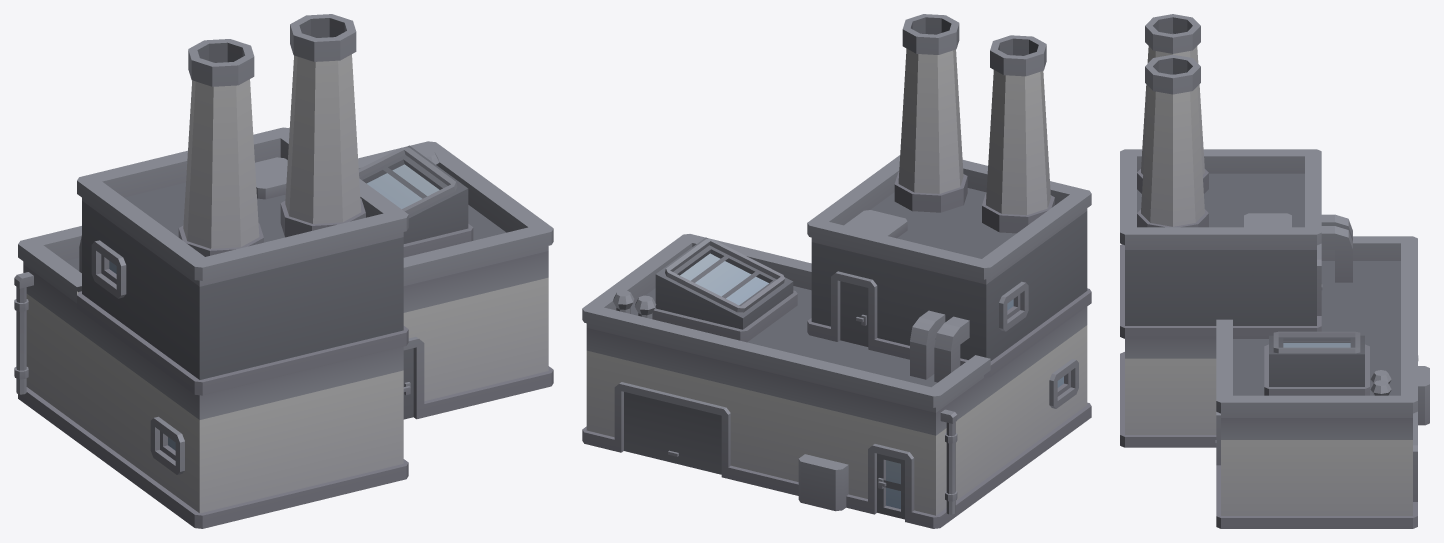
File: factory-b.glb
3 views of the same model, side by side, from view 1: azimuth 30°, elevation 25°; view 2: azimuth 150°, elevation 25°; view 3: azimuth 270°, elevation 25° (orthographic). The views are drawn at different scales.
Visible parts, largest first — view 1: factory-b; view 2: factory-b; view 3: factory-b.
Part boxes in pixels (x1,y1,x2,y2): factory-b: [14, 14, 553, 528]; factory-b: [582, 14, 1091, 528]; factory-b: [1120, 14, 1429, 528].
Size of the model in its own units: 1.68 by 1.65 by 1.29.
